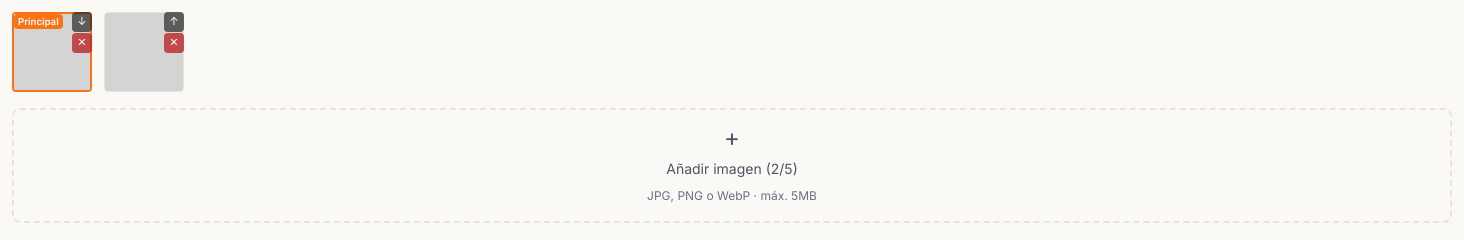
Test: ImageGallery — eliminar imagen (flujo completo) › al hacer click en "No" cancela la confirmación
Click the button named "eliminar imagen".
click(82, 43)  # box top-left (72, 33), bottom-right (92, 53)
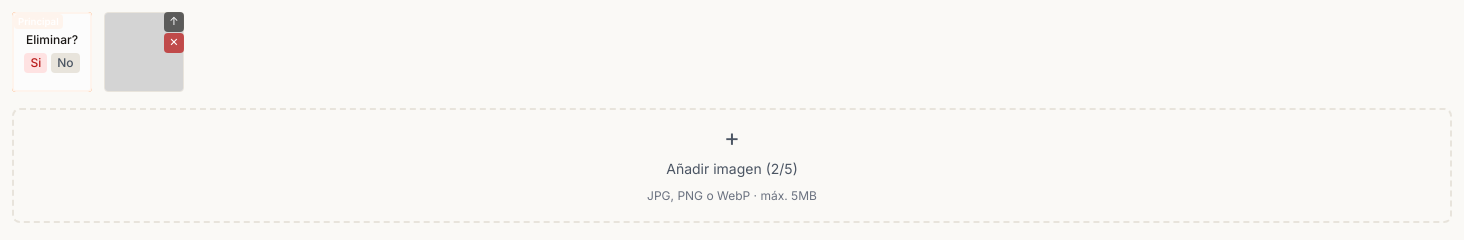
Click the button "No".
click(65, 63)  # box top-left (51, 53), bottom-right (80, 73)
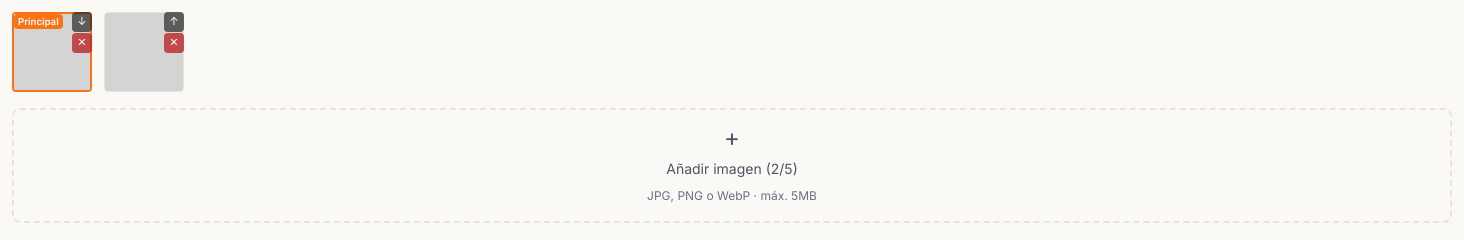
Check: the text "Eliminar?" is gone
